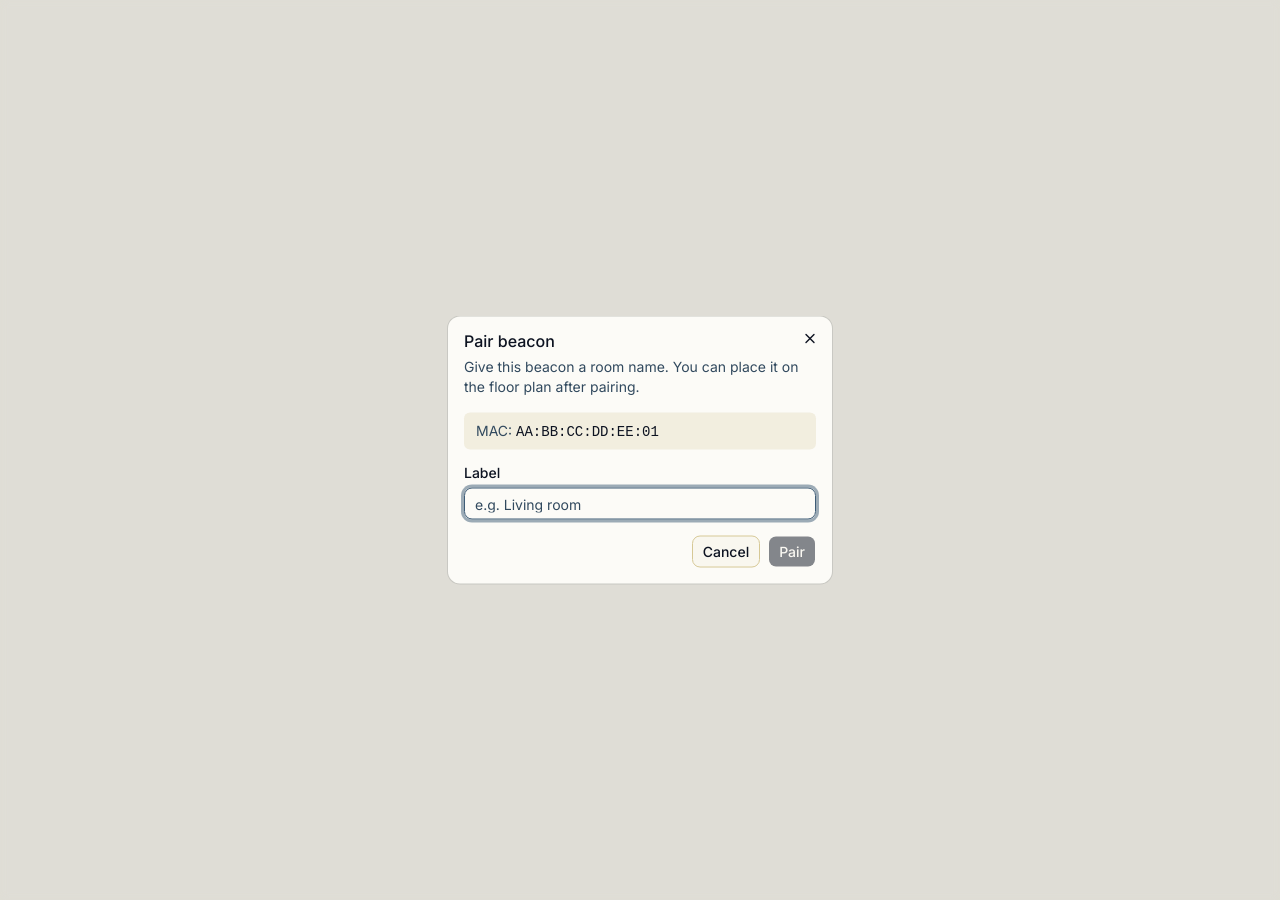
Test case: PairDialog › keeps the Pair button disabled until a label is entered
Expected: the button "Pair" is disabled, left=768, top=536, right=816, bottom=568
Type "Bedroom" into the field labelled "Label". click: (640,504)
box: left=464, top=488, right=816, bottom=520
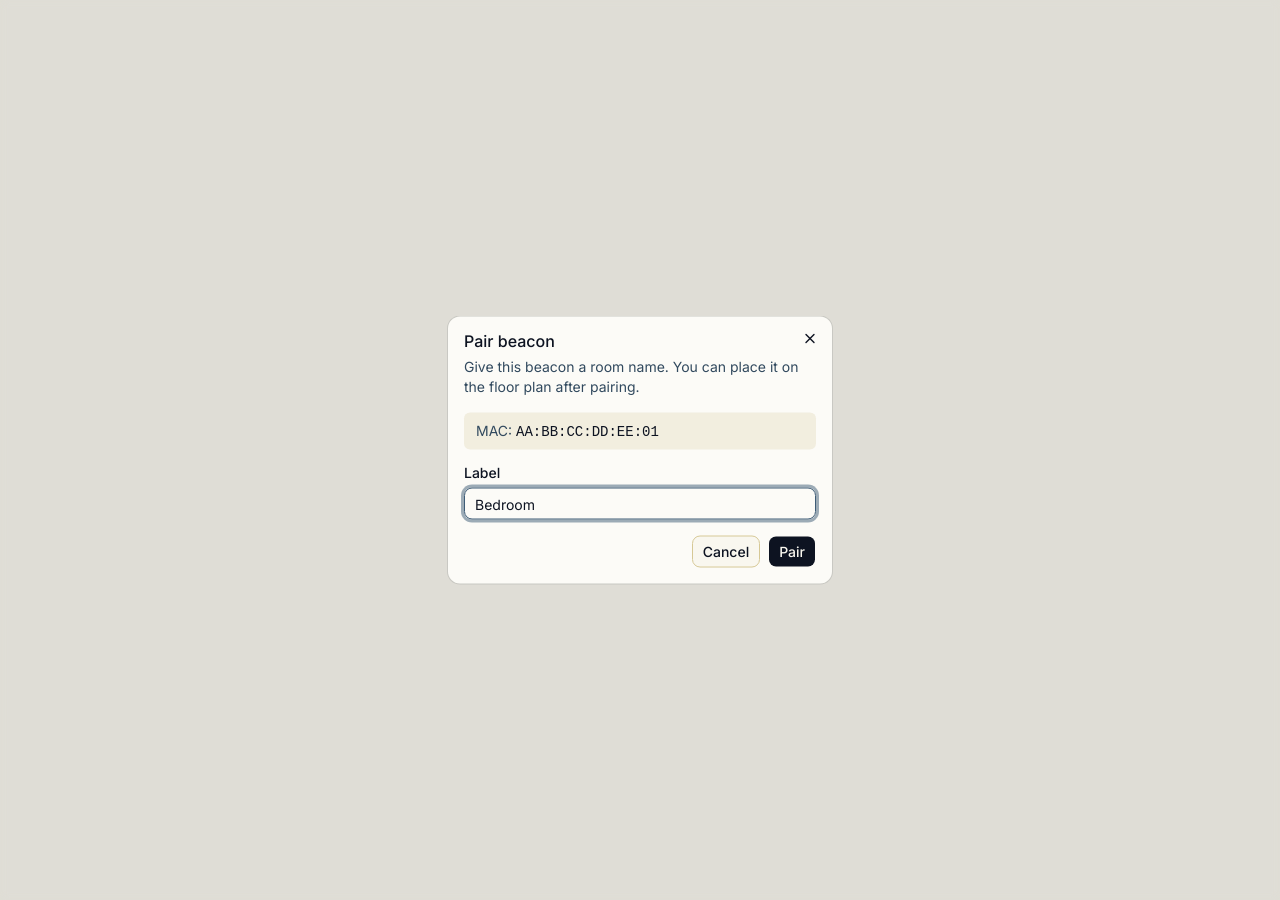
Expected: the button "Pair" is enabled, left=768, top=536, right=816, bottom=568
